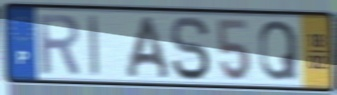5: (215, 16, 254, 83)
A: (123, 13, 173, 81)
I: (87, 13, 101, 80)
Q: (257, 18, 300, 84)
R: (35, 12, 82, 77)
S: (169, 14, 213, 83)
